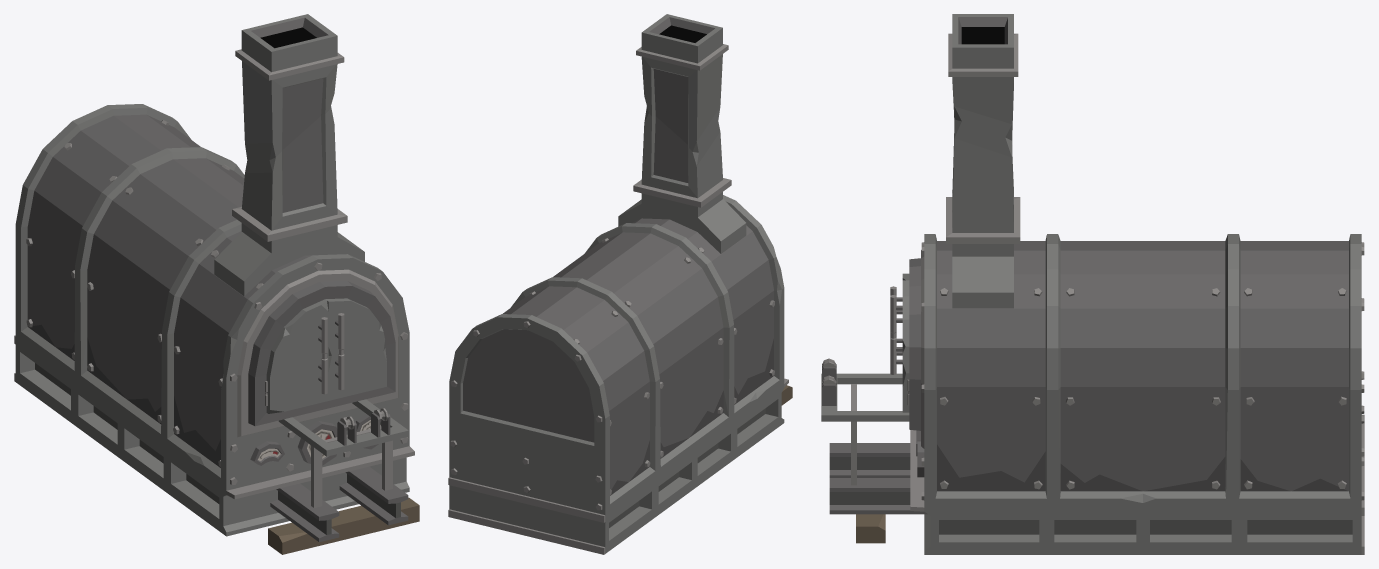
The model's file is SM_Prop_Furnace_01.fbx.
The picture shows the model from 3 angles, left to right: view 1: azimuth 30°, elevation 25°; view 2: azimuth 150°, elevation 25°; view 3: azimuth 270°, elevation 25°; orthographic projection. The views are drawn at different scales.
Parts seen in each view (by area): view 1: SM_Prop_Furnace_01; view 2: SM_Prop_Furnace_01; view 3: SM_Prop_Furnace_01.
Part boxes in pixels (left/top/right/bottom): SM_Prop_Furnace_01: left=14, top=14, right=419, bottom=554; SM_Prop_Furnace_01: left=448, top=14, right=792, bottom=554; SM_Prop_Furnace_01: left=821, top=14, right=1364, bottom=554.
Size of the model in its own units: 125 by 300 by 309.
